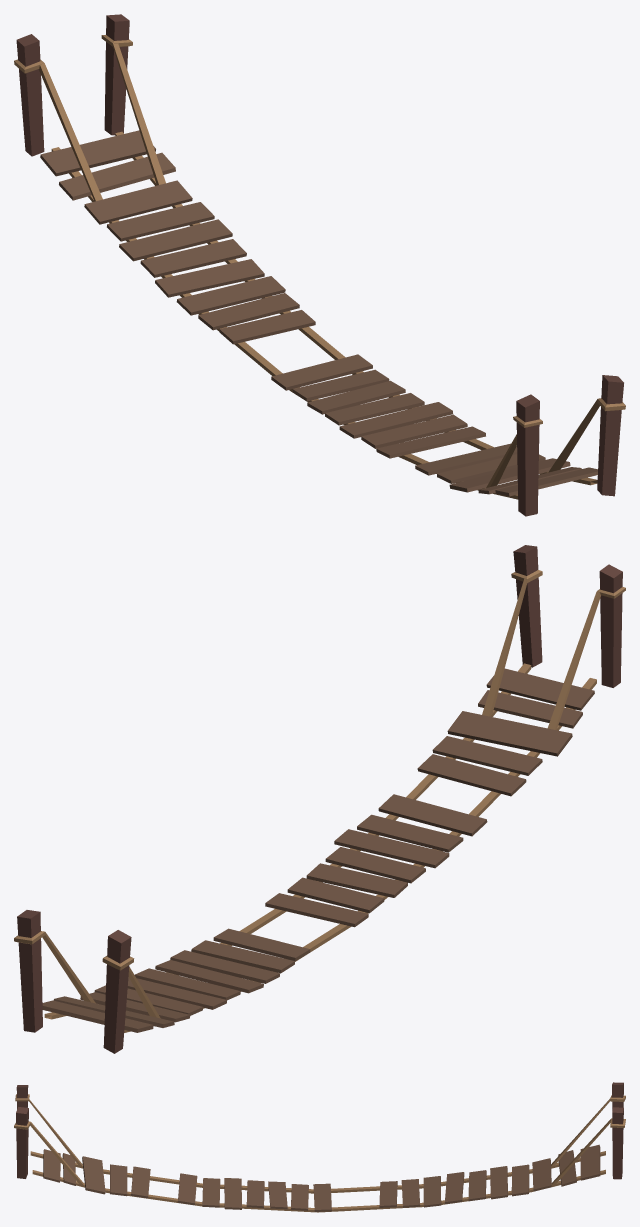
The model's file is Bridge-B03.fbx.
3 renders of one model, top to bottom at view 1: azimuth 30°, elevation 25°; view 2: azimuth 150°, elevation 25°; view 3: azimuth 270°, elevation 25°, orthographic. The views are drawn at different scales.
Visible parts, largest first — view 1: Bridge-B03; view 2: Bridge-B03; view 3: Bridge-B03.
Part boxes in pixels (left/top/right/bottom): Bridge-B03: left=14, top=14, right=625, bottom=516; Bridge-B03: left=14, top=545, right=625, bottom=1053; Bridge-B03: left=14, top=1082, right=625, bottom=1212.
Bounding box in the file's own units: 301 × 456 × 2400.
